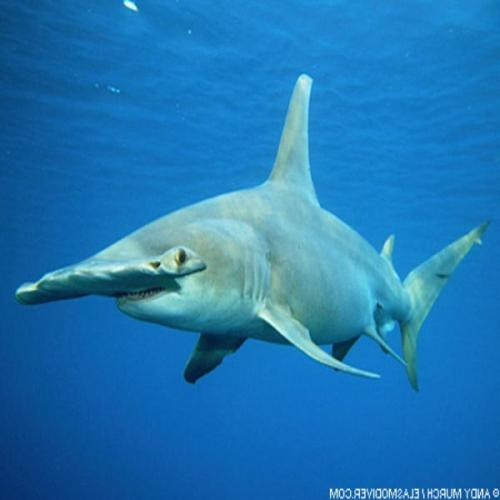shark-endangered: (14, 72, 492, 393)
